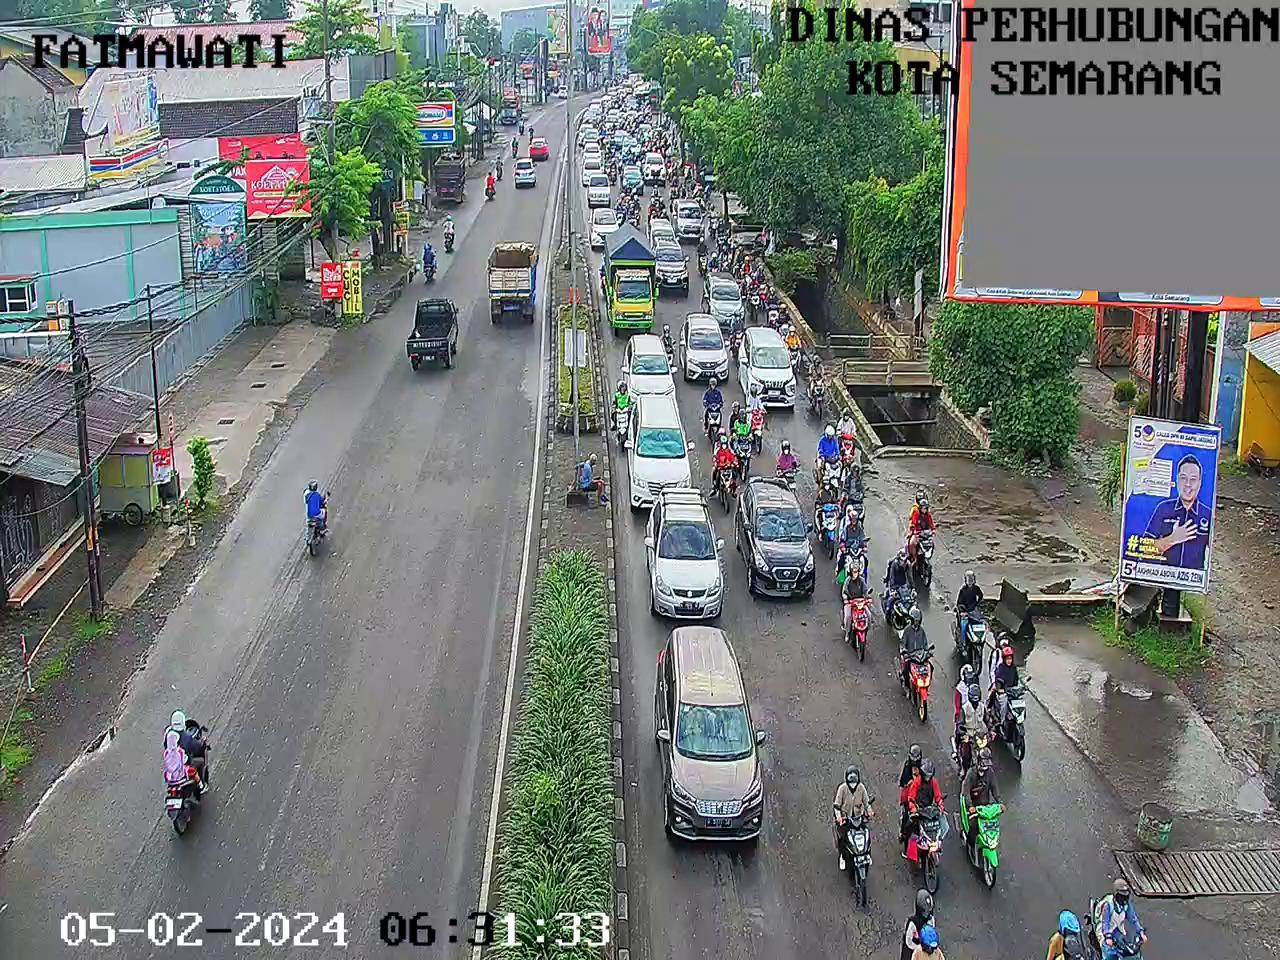car: (656, 616, 769, 856), (743, 468, 815, 610), (626, 393, 697, 516), (663, 488, 719, 633), (741, 331, 800, 438), (678, 316, 740, 415), (631, 341, 675, 421), (651, 234, 693, 303), (706, 276, 745, 338), (587, 203, 625, 251), (679, 201, 703, 245), (649, 216, 679, 244), (583, 174, 609, 207), (646, 152, 671, 184), (581, 153, 604, 186), (619, 136, 641, 161), (624, 165, 645, 190), (581, 143, 598, 163), (579, 107, 596, 126), (624, 90, 640, 109), (581, 120, 594, 141), (638, 125, 655, 141), (588, 99, 602, 118), (586, 129, 599, 148), (602, 95, 613, 114), (636, 80, 652, 92), (607, 114, 618, 130), (618, 83, 628, 100), (624, 79, 635, 93), (608, 87, 618, 99), (608, 107, 617, 119)
motorcycle: (898, 745, 956, 899), (827, 768, 886, 906), (961, 745, 1012, 888), (956, 664, 1004, 787), (994, 632, 1032, 776), (836, 562, 878, 663), (902, 607, 936, 726), (1093, 878, 1139, 960), (902, 891, 947, 960), (887, 548, 924, 629), (959, 568, 989, 671), (913, 487, 943, 586), (729, 399, 760, 477), (715, 430, 743, 512), (813, 471, 840, 560), (839, 503, 871, 572), (1045, 909, 1086, 960), (844, 461, 873, 533), (775, 441, 805, 508), (746, 379, 775, 448), (612, 381, 638, 444), (659, 322, 681, 385), (818, 418, 839, 488), (705, 377, 725, 441), (782, 323, 806, 375), (809, 354, 830, 412), (840, 407, 861, 465), (728, 309, 749, 363), (694, 235, 712, 275), (745, 277, 761, 319), (758, 263, 773, 306), (705, 204, 722, 238), (763, 292, 779, 324), (736, 246, 749, 281), (717, 215, 729, 249), (743, 255, 756, 283), (778, 302, 791, 329), (710, 249, 720, 276), (616, 192, 625, 221), (751, 258, 759, 286), (684, 158, 694, 181), (629, 202, 639, 224), (718, 245, 728, 267), (694, 185, 707, 203), (671, 175, 679, 202), (687, 178, 700, 195), (629, 195, 642, 211), (609, 158, 618, 182), (603, 152, 611, 174), (764, 273, 773, 291), (651, 195, 664, 207), (651, 186, 662, 200), (655, 207, 671, 216), (608, 143, 618, 156), (666, 158, 673, 173), (648, 111, 656, 124), (654, 127, 664, 137), (642, 97, 651, 108), (640, 148, 647, 162), (648, 141, 656, 153), (648, 205, 656, 217), (627, 116, 634, 127), (609, 134, 617, 143), (664, 146, 672, 154), (601, 131, 608, 140), (622, 117, 629, 126), (627, 109, 636, 116), (624, 125, 632, 132), (633, 129, 640, 137), (640, 142, 648, 149), (663, 152, 669, 161), (660, 139, 666, 148), (655, 138, 660, 148), (638, 115, 645, 122), (657, 147, 665, 153), (672, 162, 677, 170), (639, 110, 645, 116), (601, 122, 606, 129), (620, 101, 625, 108), (622, 110, 627, 116), (649, 109, 650, 113), (851, 445, 851, 448)
truck: (596, 226, 663, 335)
